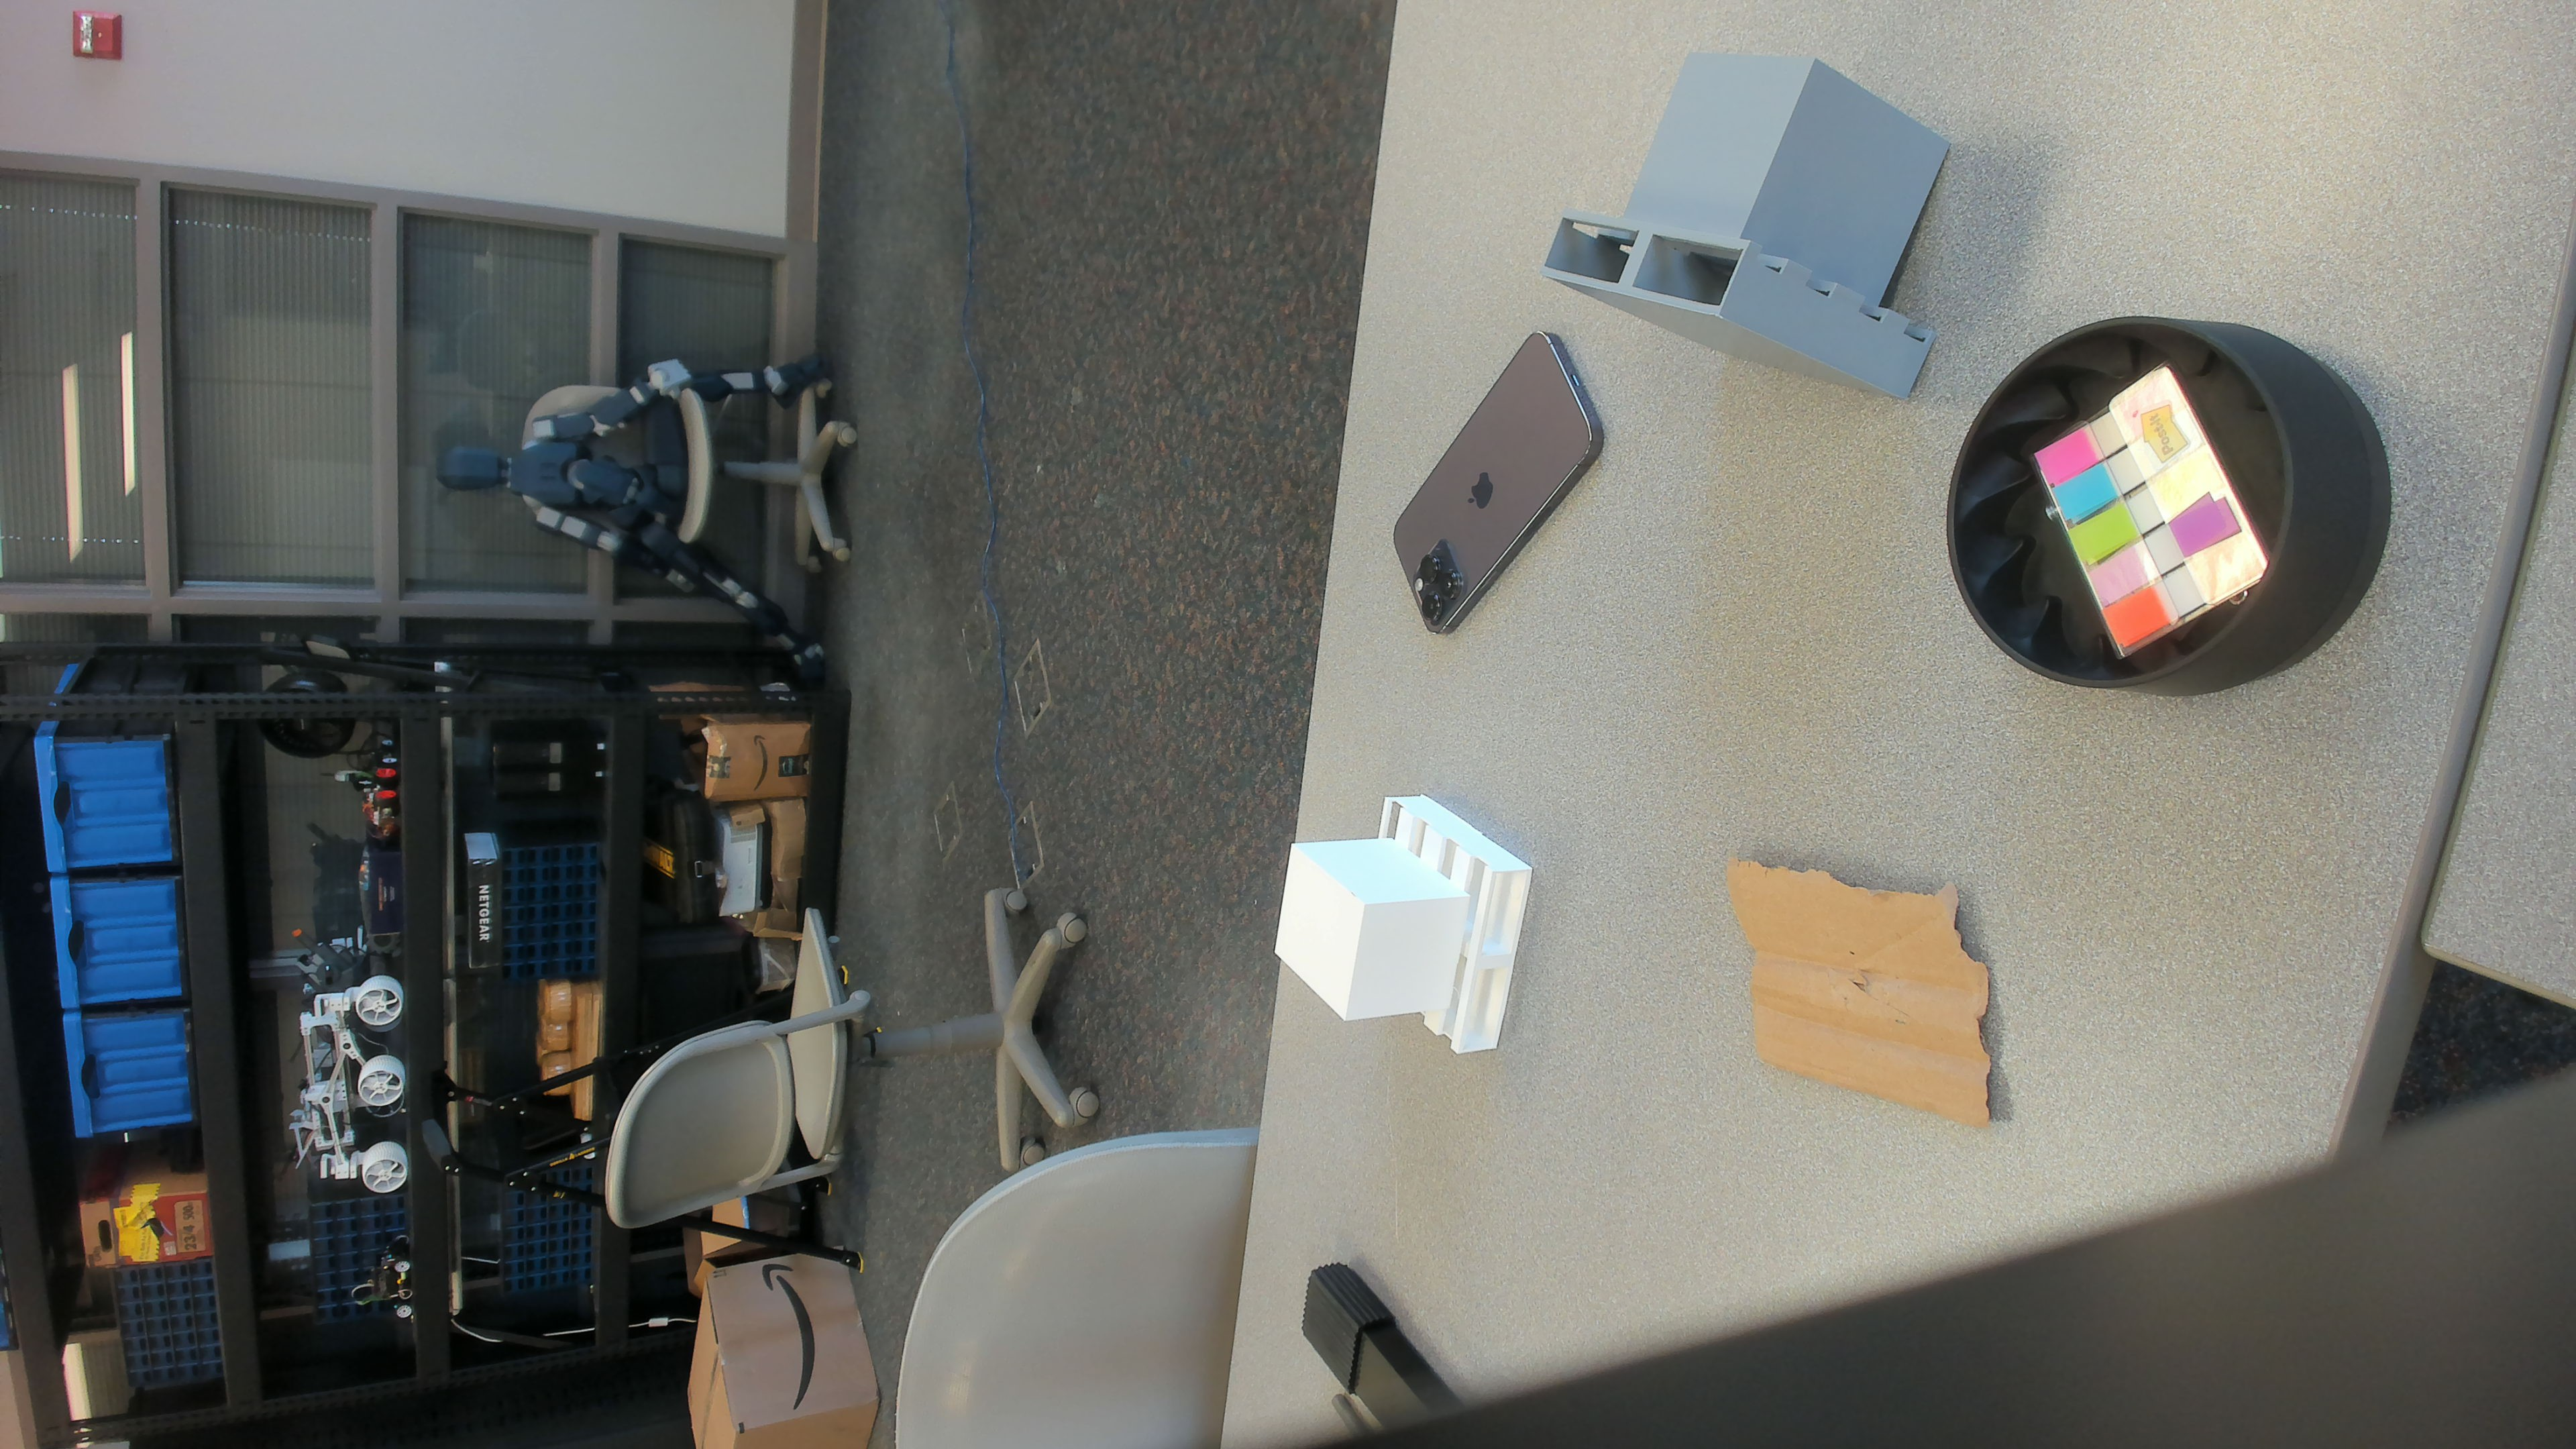grey pallet: (1529, 44, 1962, 421)
white pallet: (1260, 789, 1537, 1070)
